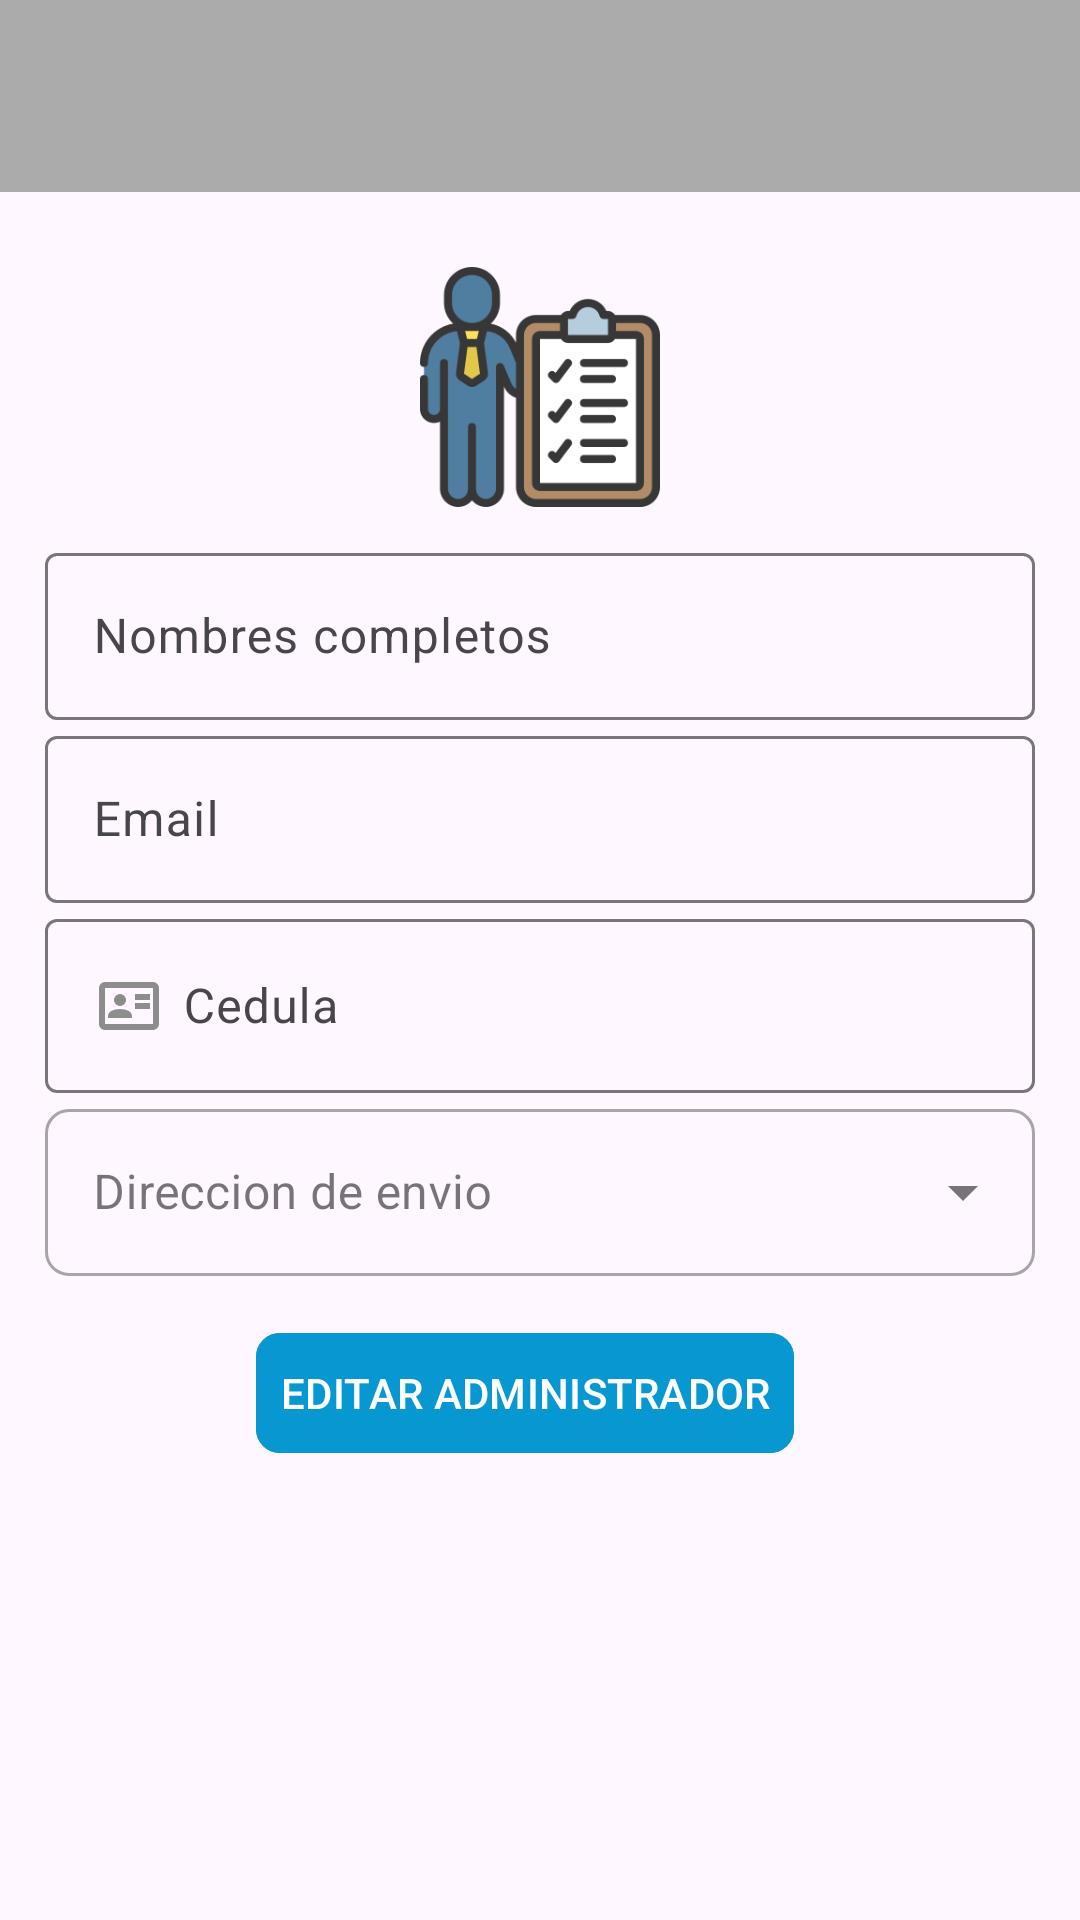

Icons on this 1080*1920 Android screen, each with the point to tap as (x,y):
registroadmin: (540,387)
